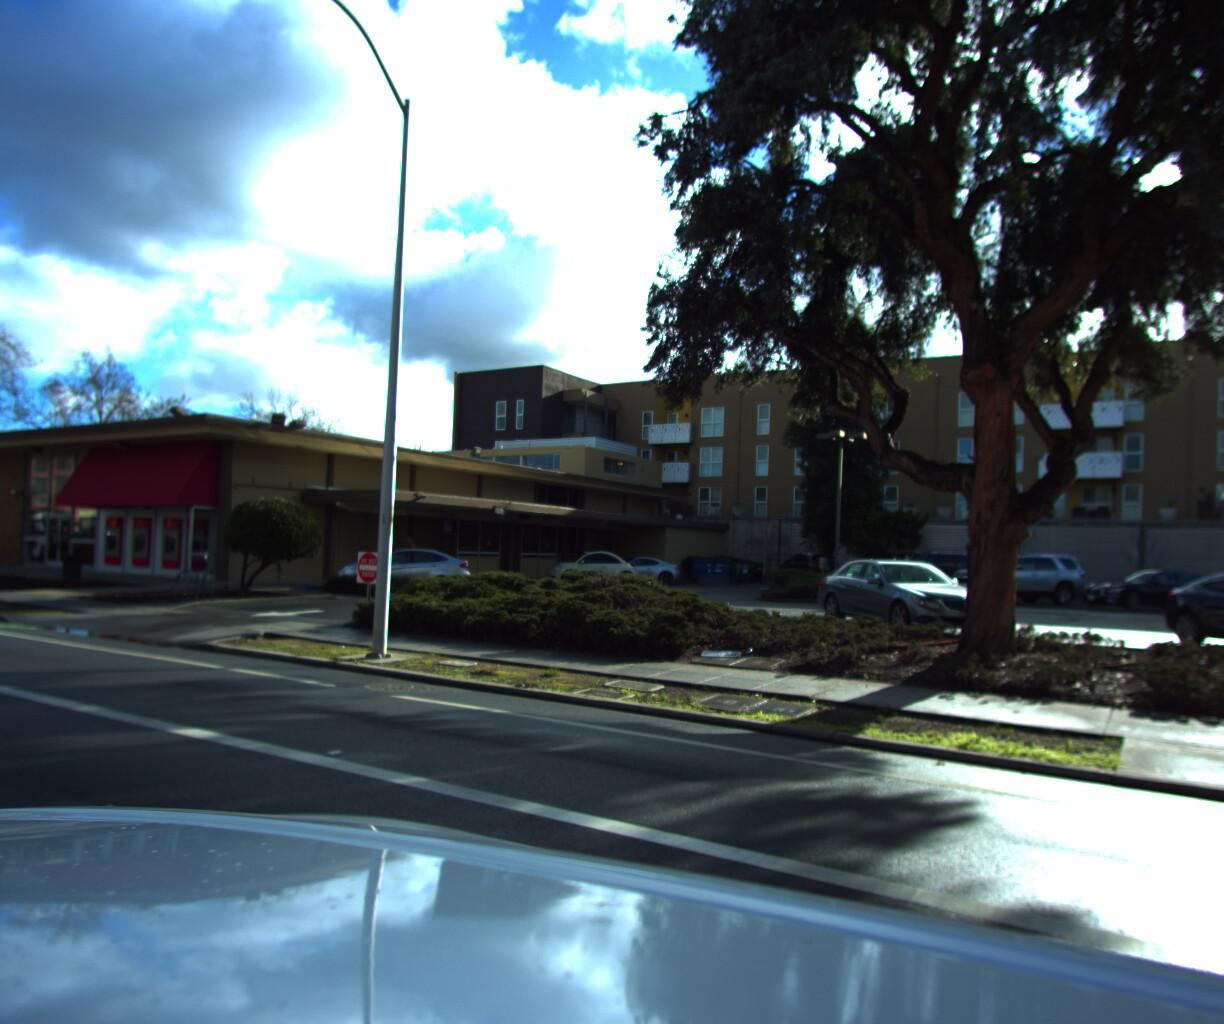car: (805, 547, 1014, 640), (1147, 561, 1224, 674), (322, 538, 474, 590)
